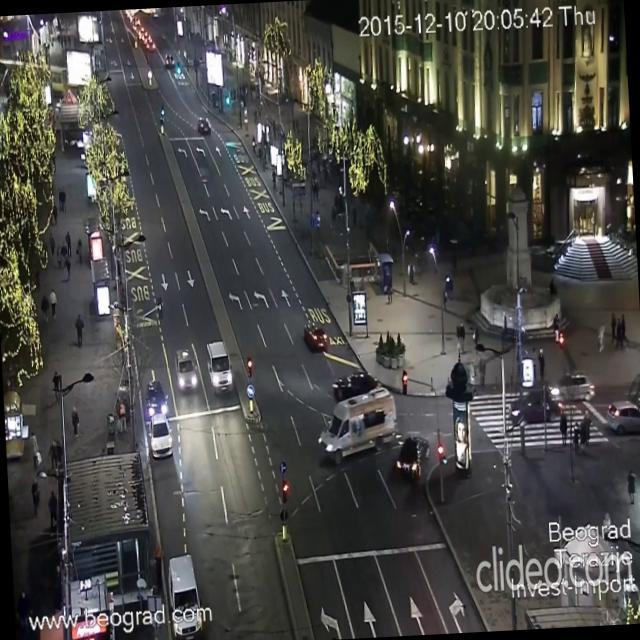bus: (318, 395, 397, 456)
car: (168, 549, 199, 640), (508, 385, 563, 422), (544, 372, 598, 404), (332, 374, 379, 406), (396, 432, 429, 477), (207, 337, 231, 392), (606, 399, 640, 435), (174, 348, 198, 392), (302, 320, 330, 352), (148, 416, 170, 454), (148, 378, 168, 419), (197, 116, 210, 135), (164, 54, 172, 66)
